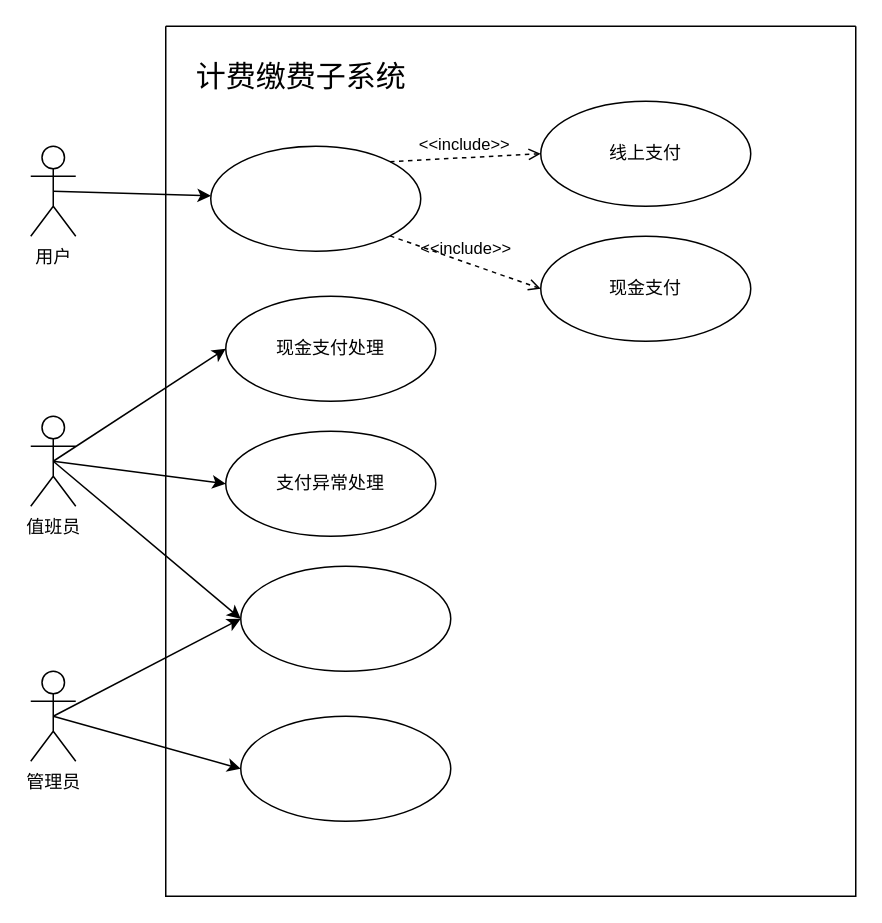
The diagram is 882 pixels wide and 923 high, and some of its shapes have lost their labels. Here are the shapes that lost their labels. From the top down, the centre of each, then its label:
At (315,198): "停车费缴纳".
At (345,618): "订单管理".
At (345,768): "计费规则管理".
